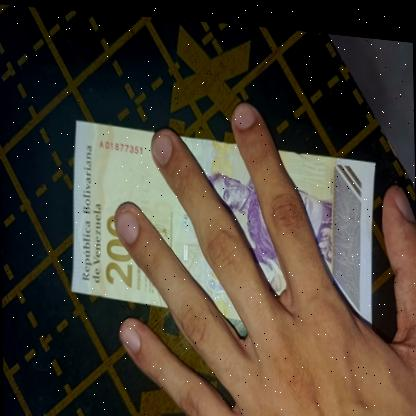vef_front: (67, 110, 379, 326)
